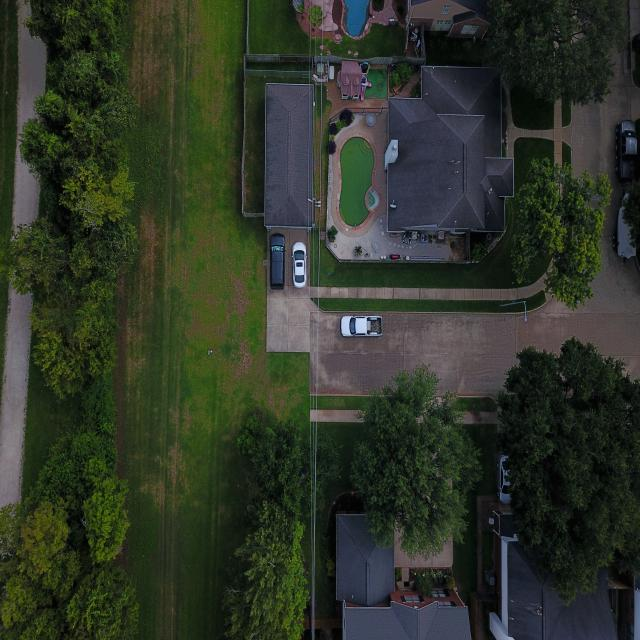fire: (11, 1, 45, 229), (0, 286, 31, 508)
